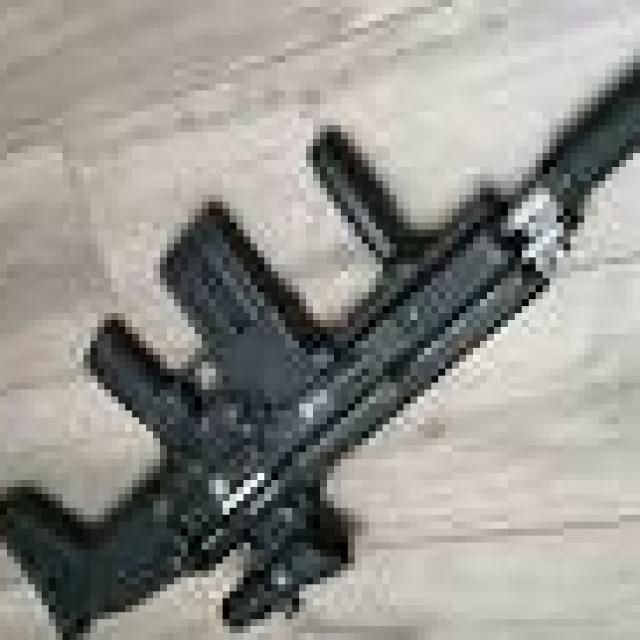Gun: (0, 56, 640, 640)
